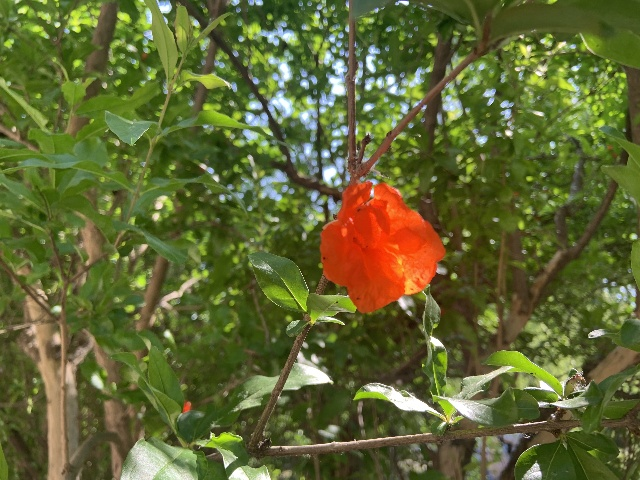flower: (319, 179, 444, 313)
